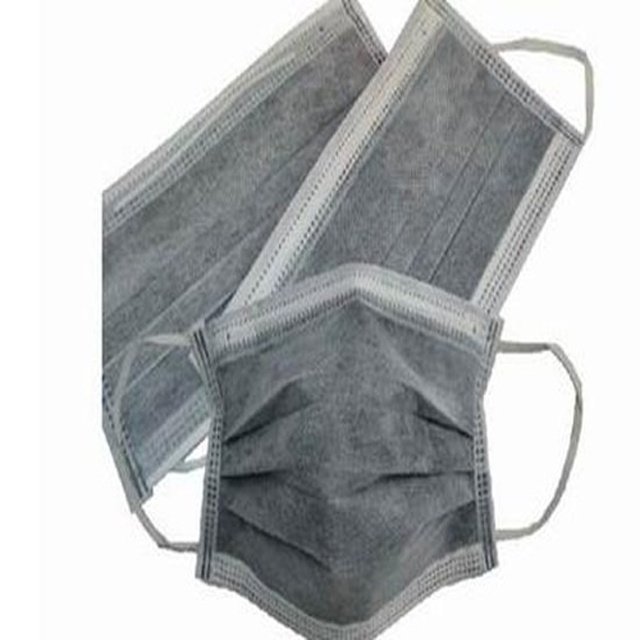mask: (115, 260, 585, 640), (184, 2, 598, 418), (103, 1, 388, 513)
